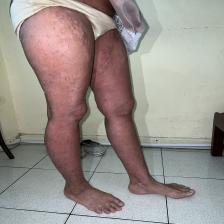Psoriasis vulgaris: (46, 34, 53, 41), (44, 52, 52, 57), (70, 88, 77, 93), (61, 75, 66, 79)
